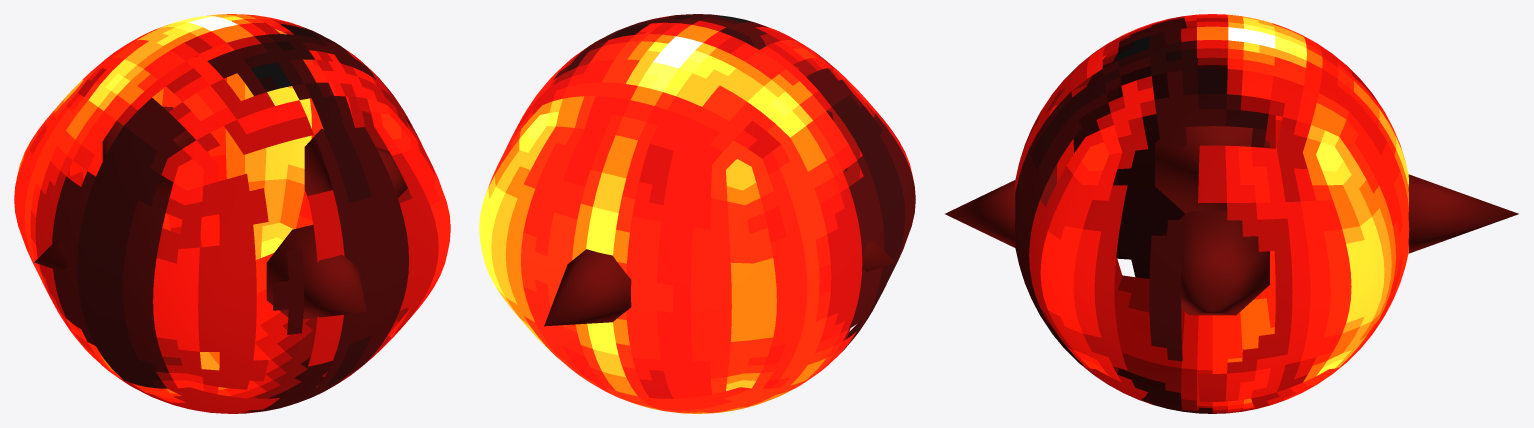
The model's file is newshl-116.glb.
3 views of the same model, side by side, from view 1: azimuth 30°, elevation 25°; view 2: azimuth 150°, elevation 25°; view 3: azimuth 270°, elevation 25° (orthographic).
Visible parts, largest first — view 1: newshl-116; view 2: newshl-116; view 3: newshl-116.
Part boxes in pixels (box(x1,y1,x2,y2)): newshl-116: box(14, 14, 450, 413); newshl-116: box(479, 14, 915, 413); newshl-116: box(945, 14, 1518, 413).
Size of the model in its own units: 0.9833 by 0.8583 by 1.23.
